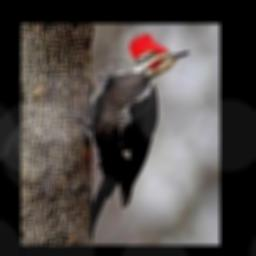Woodpecker: (65, 34, 188, 244)
